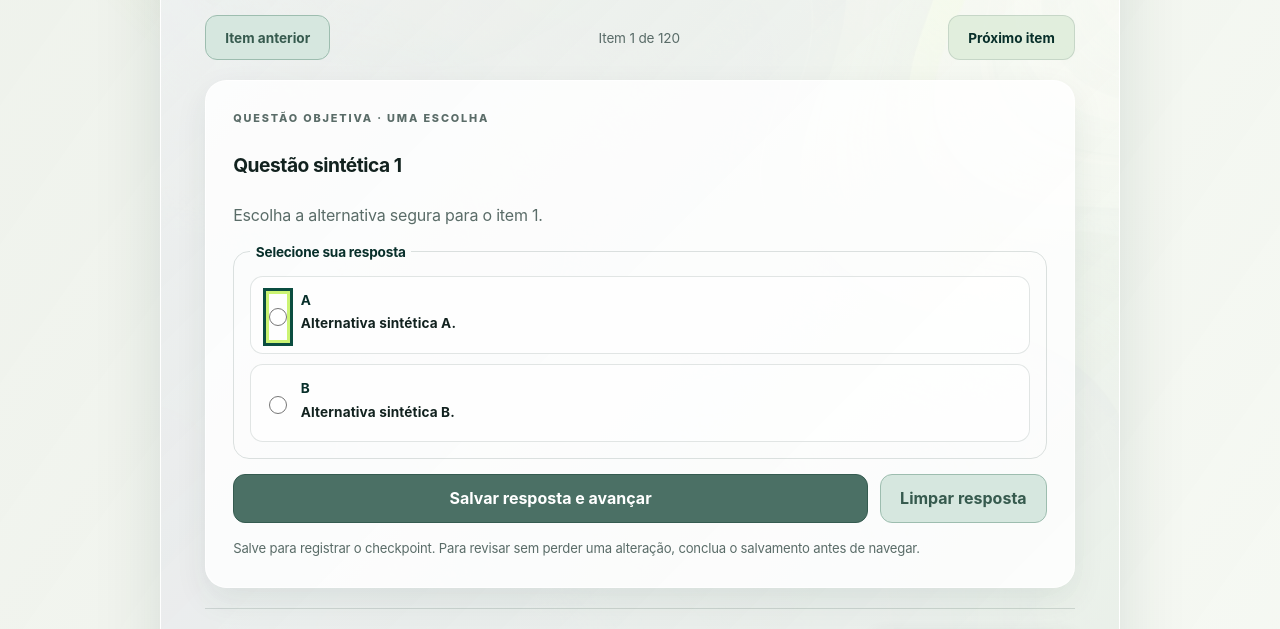
Scenario: R45 unknown-code stays pinned, never associates field validation or focuses it, and preserves dirty original replay
(page scrolled)
Expected: the element with test id "diagnostic-item" is shown, [205, 80, 1075, 588]
Type keys " "
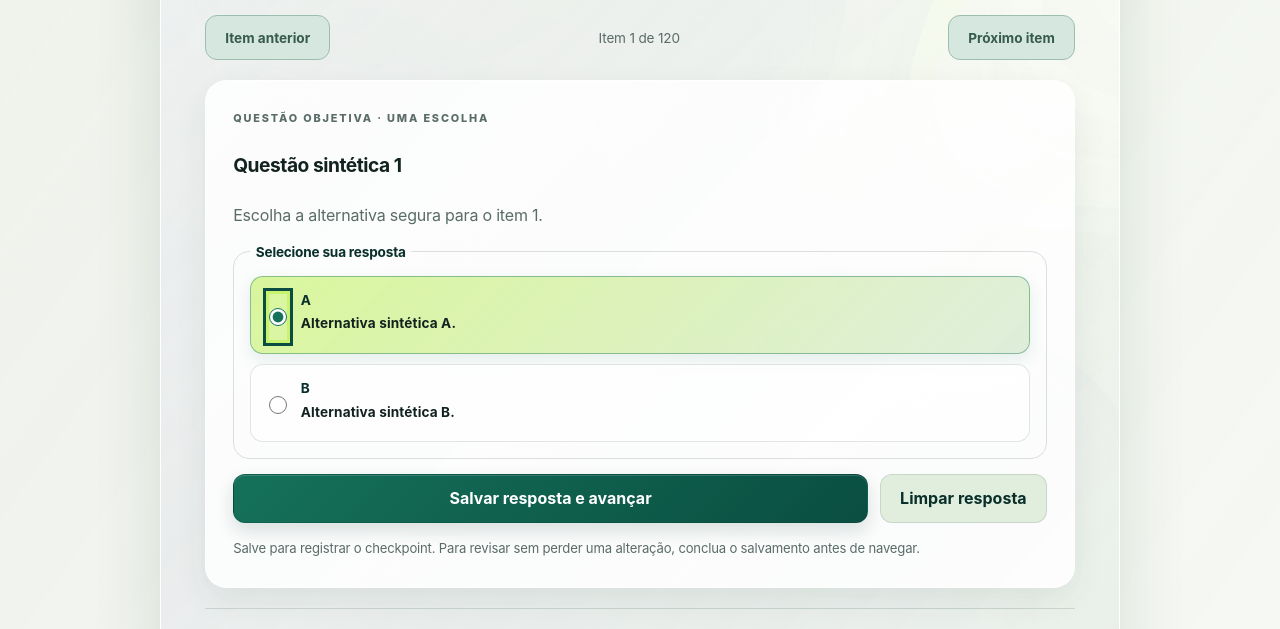
Expected: the radio button labelled "A Alternativa sintética A." is checked, [269, 294, 287, 340]
Press Tab
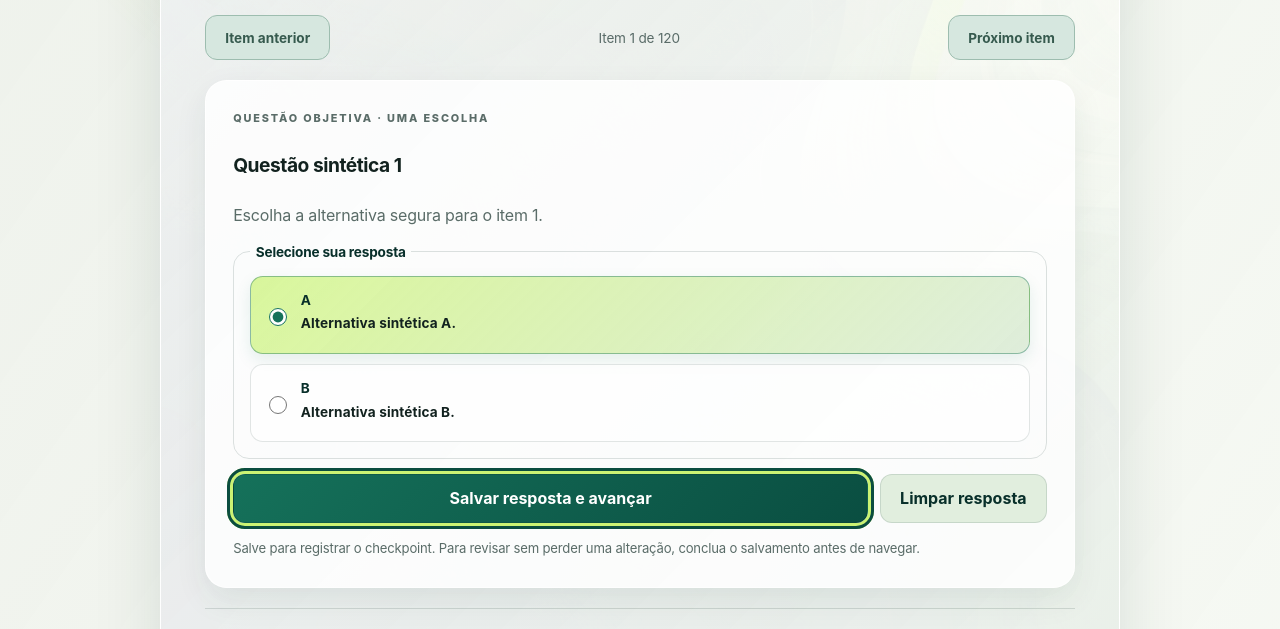
Expected: the button "Salvar resposta e avançar" is shown, [233, 474, 868, 523]
Press Enter
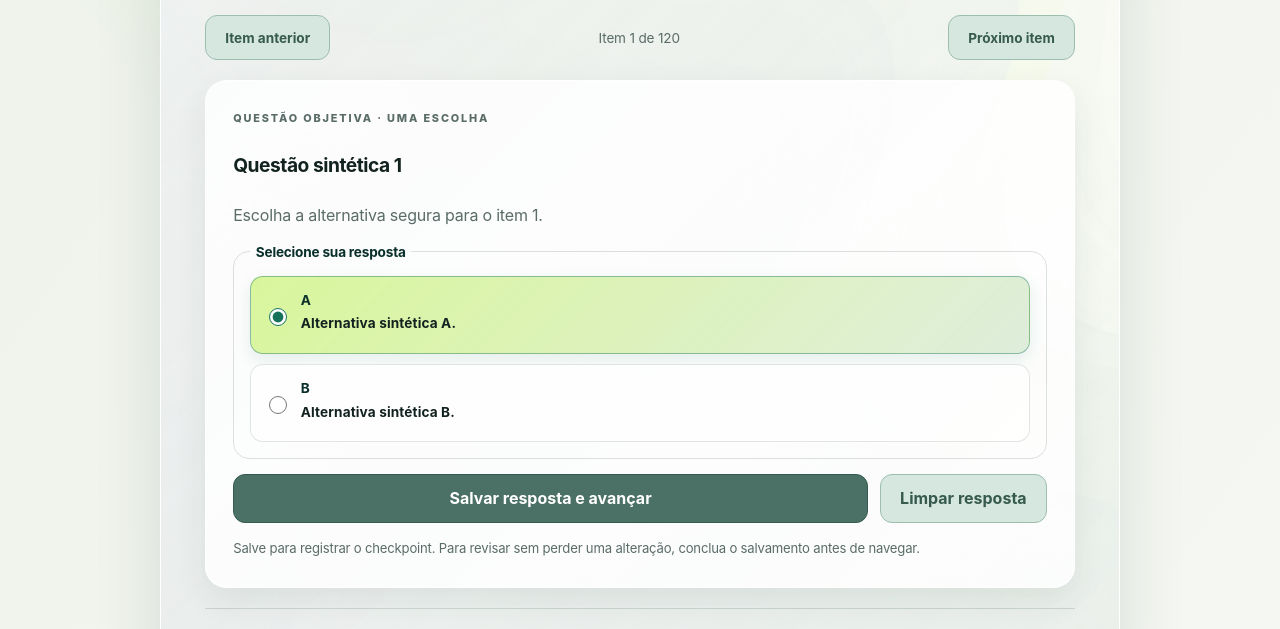
Click the radio button labelled "B Alternativa sintética B." at (278, 405), box [269, 382, 287, 428]
(page scrolled)
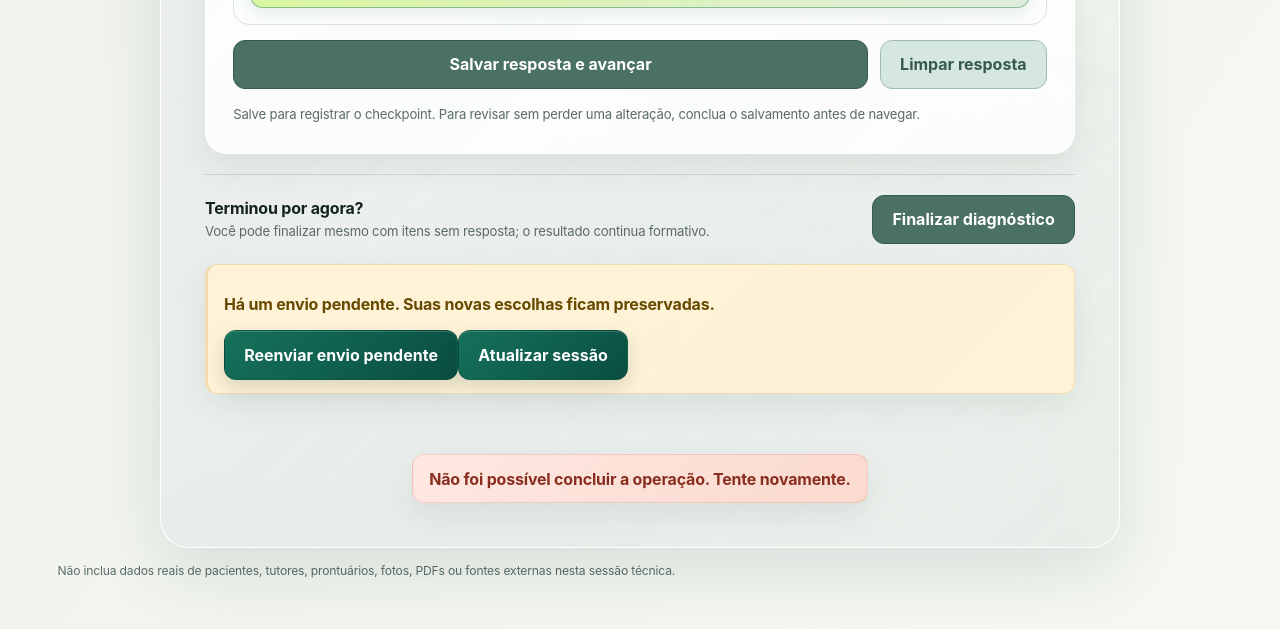
Click the button "Atualizar sessão" at (543, 355), box [458, 330, 628, 380]
(page scrolled)
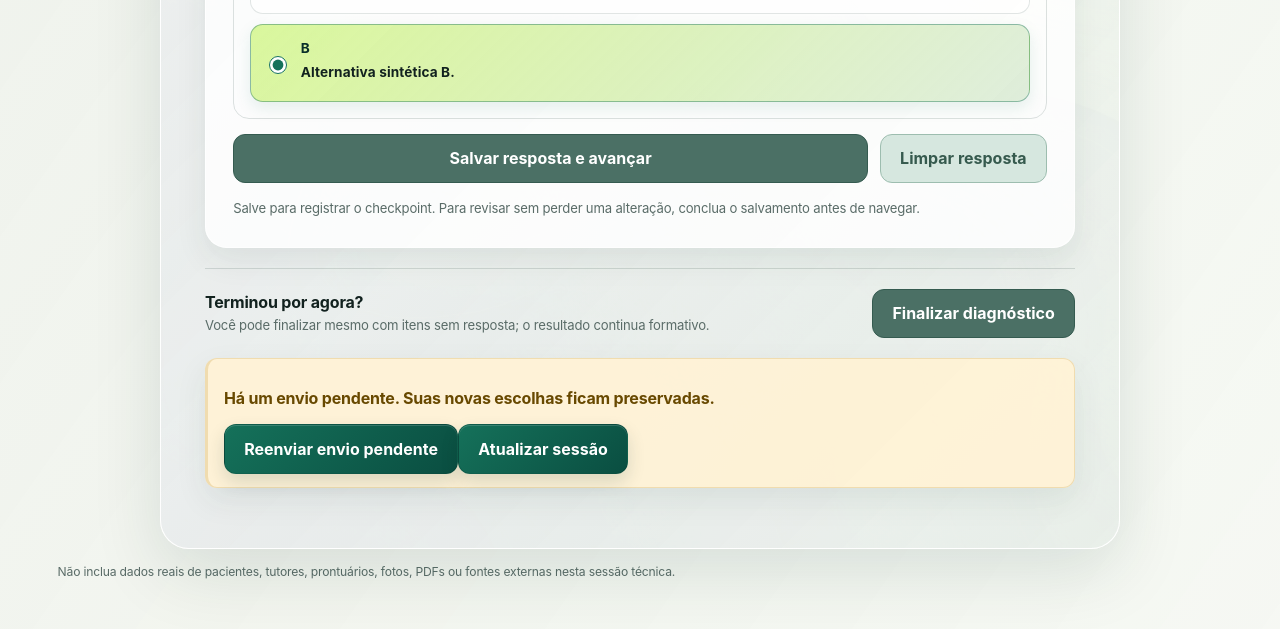
Expected: the button "Reenviar envio pendente" is enabled
Click the button "Reenviar envio pendente" at (341, 449), box [224, 424, 458, 474]
(page scrolled)
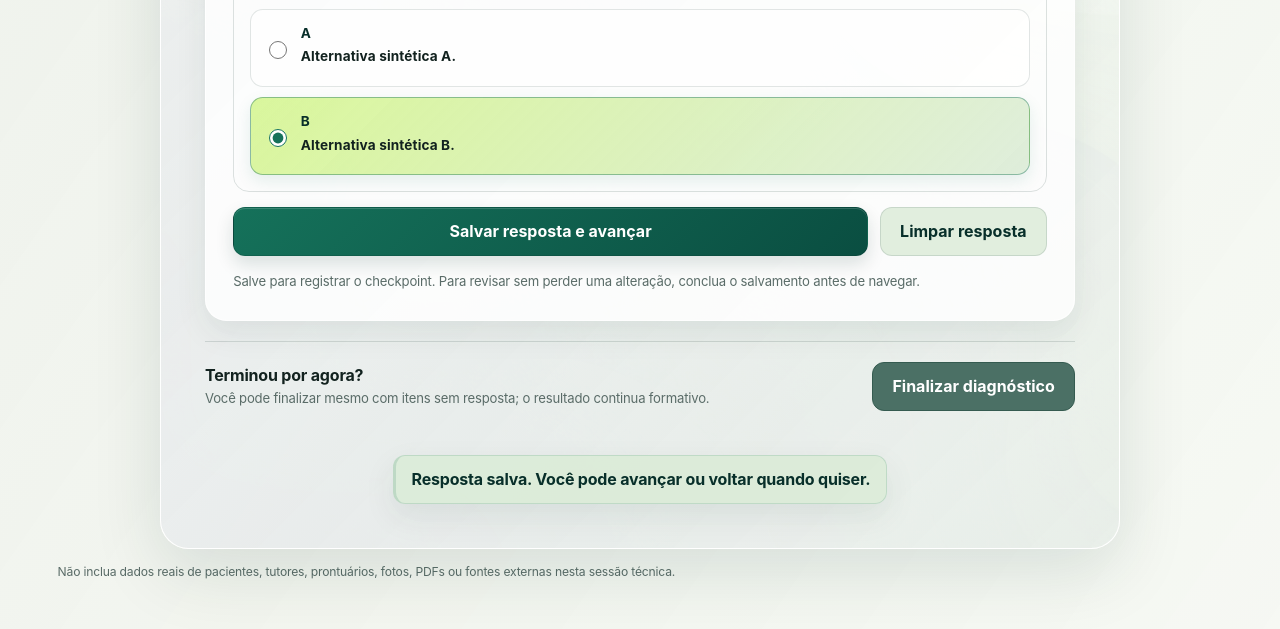
Expected: the radio button labelled "B Alternativa sintética B." is checked, [269, 115, 287, 161]
Expected: the text "Resposta salva. Você pode avançar ou voltar quando quiser." is shown, [393, 455, 888, 504]
